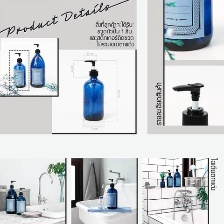bottle: (163, 0, 215, 52), (80, 70, 106, 123), (10, 50, 29, 90), (29, 49, 47, 89), (105, 184, 120, 210), (4, 184, 16, 214), (15, 192, 27, 215), (172, 169, 182, 188), (95, 195, 105, 209), (166, 173, 173, 189), (158, 178, 165, 189)
